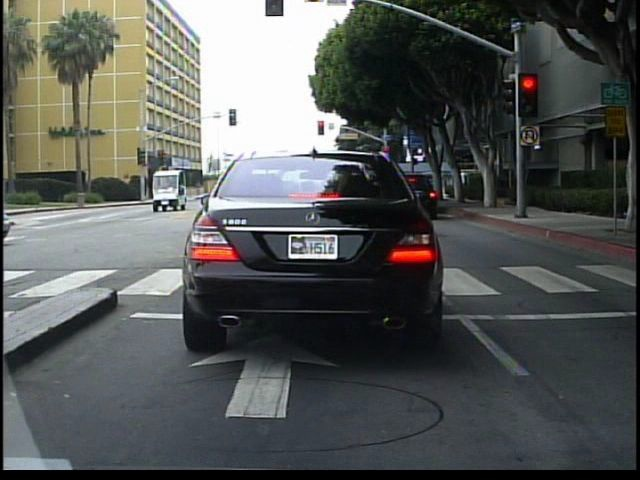person: (354, 144, 400, 282), (321, 143, 360, 272)
